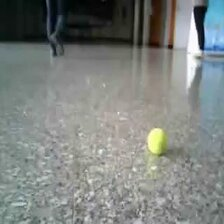tennis: (146, 128, 169, 156)
